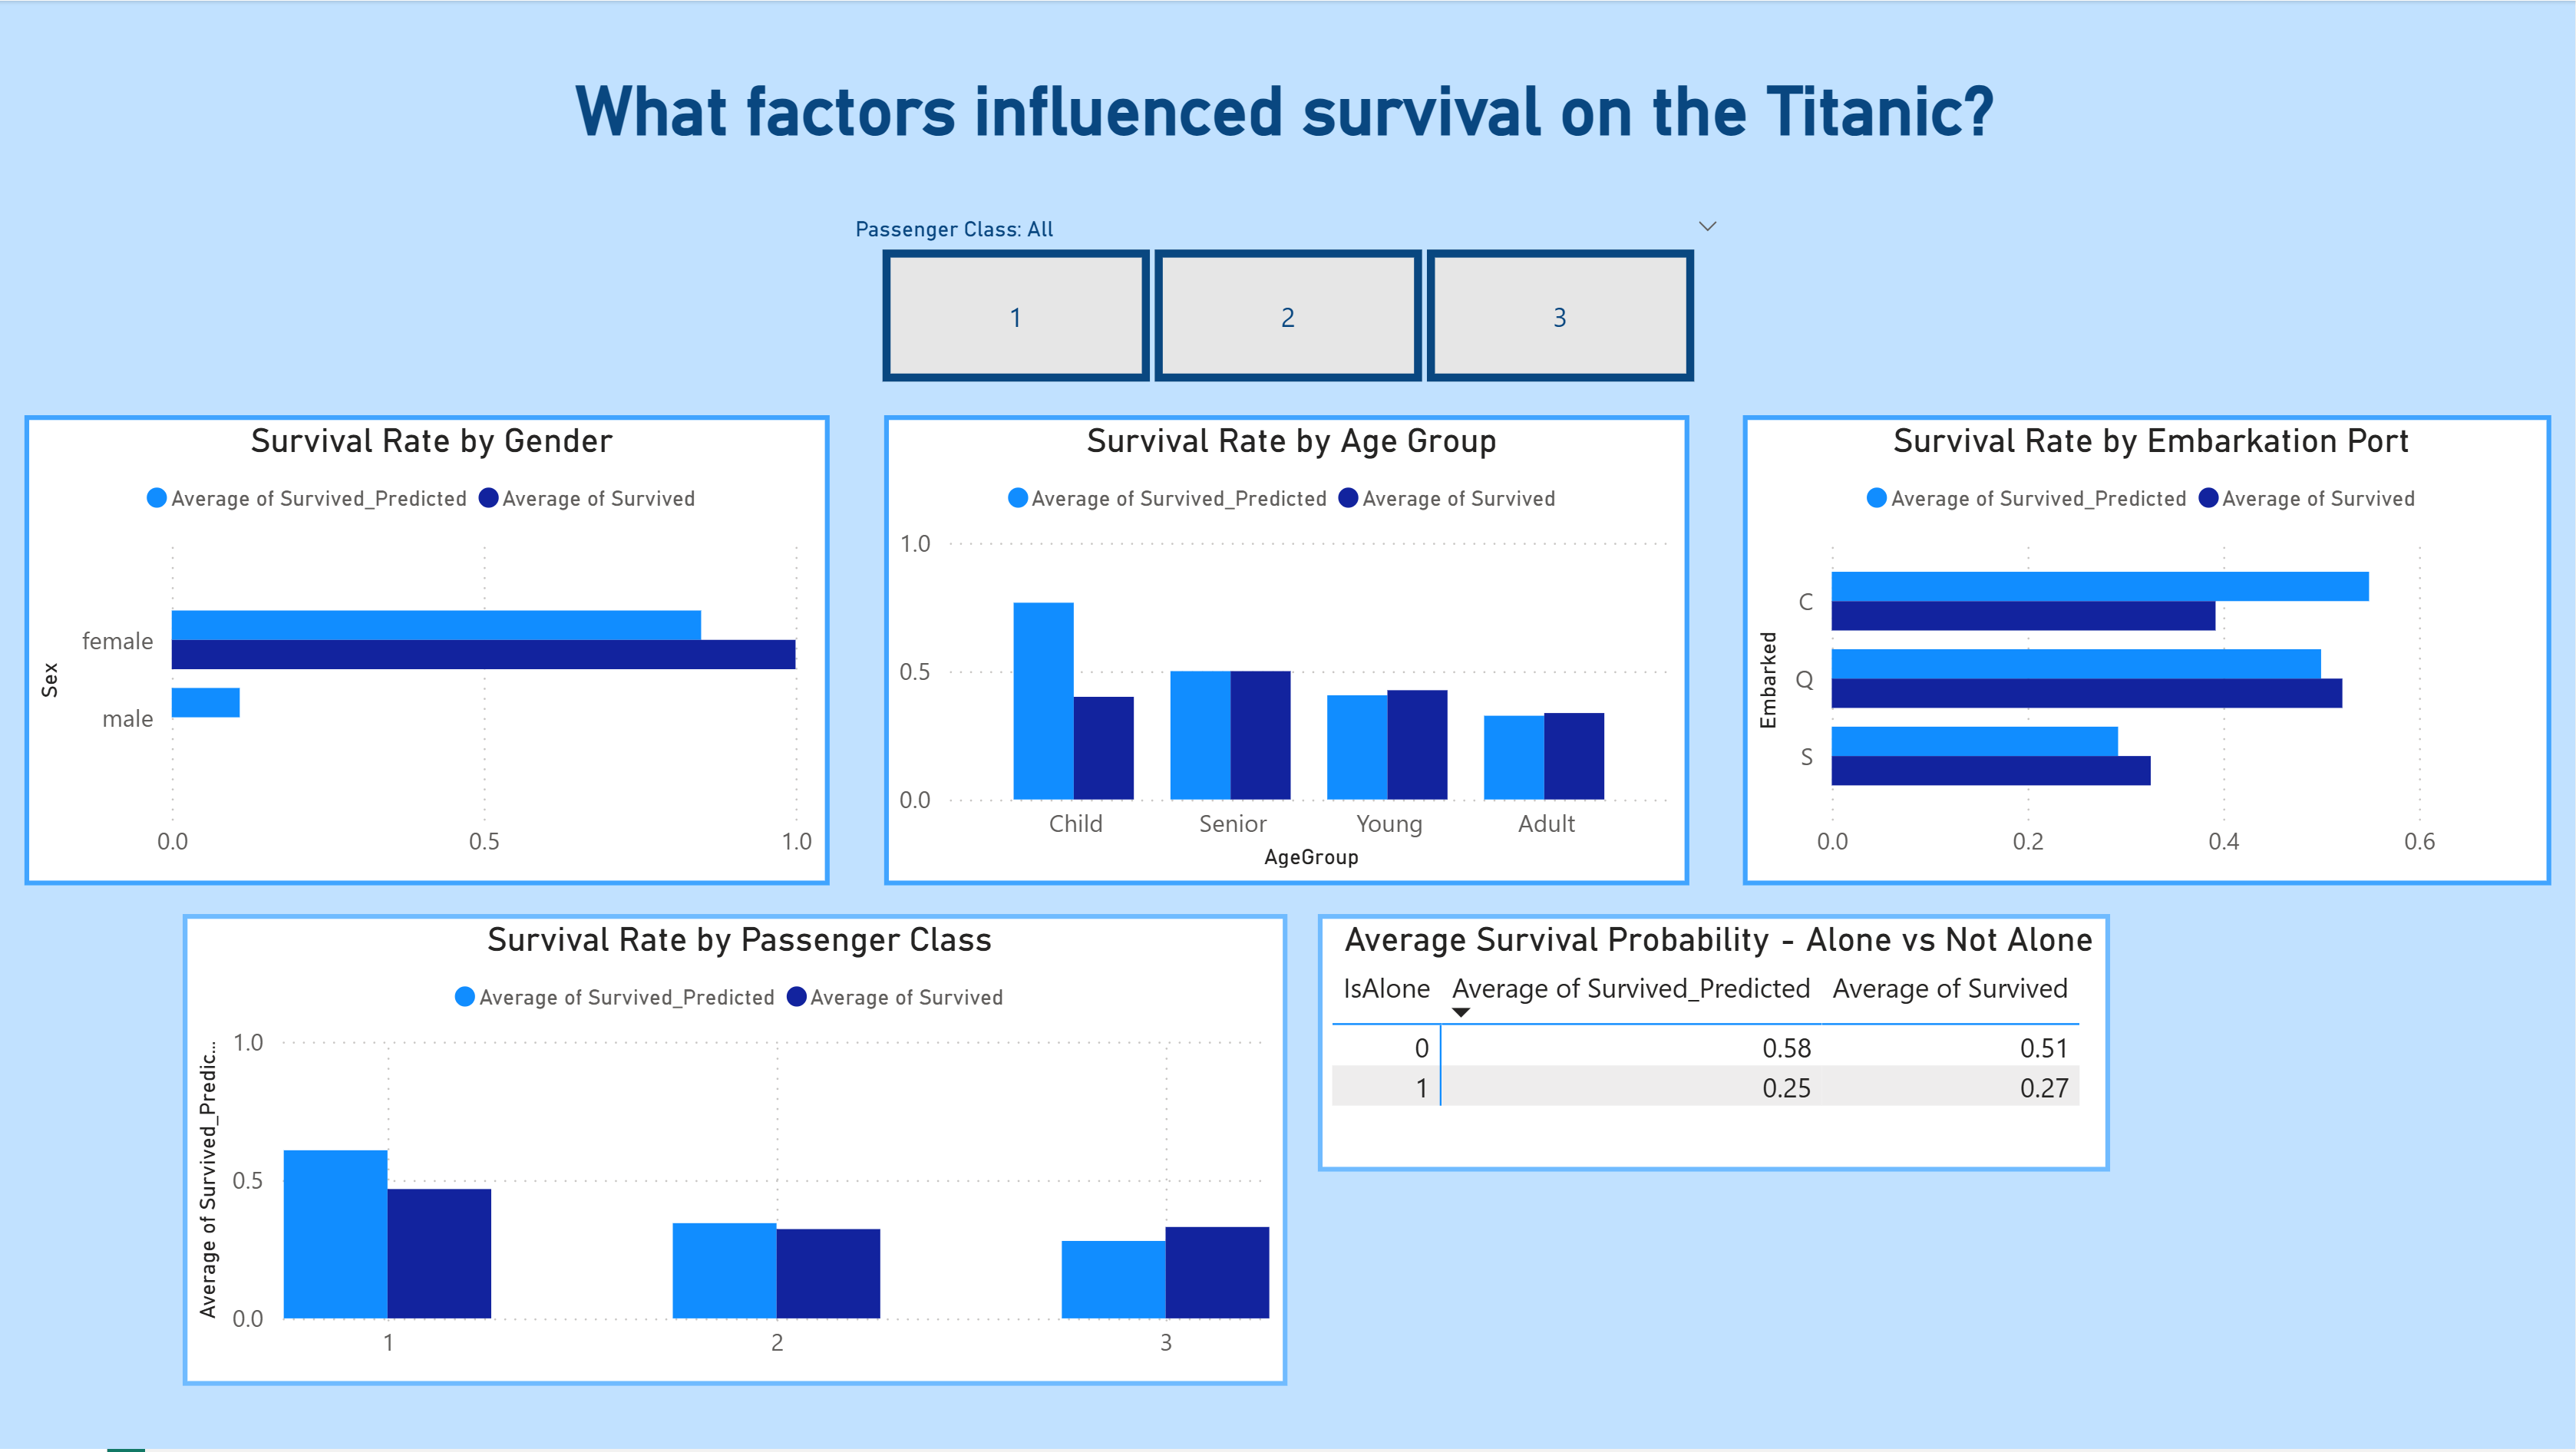

The dashboard page shown, as its layout file describes it:
{"tool":"powerbi","page":{"name":"Factors Survival","canvas":[1280,720],"ordinal":0},"visuals":[{"type":"textbox","box":[11.4,30.5,1256.2,47.7],"z":0},{"type":"clusteredBarChart","title":"Survival Rate by Gender ","fields":{"Category":["titanic_test_processed.Sex"],"Y":["Avg(submission.Survived_Predicted)","Avg(gender_submission.Survived)"]},"box":[12.9,205.9,399.8,233.5],"z":1000},{"type":"clusteredColumnChart","title":"Survival Rate by Passenger Class","fields":{"Category":["titanic_test_processed.Pclass"],"Y":["Avg(submission.Survived_Predicted)","Avg(gender_submission.Survived)"]},"box":[91.5,453.7,548.5,234.5],"z":2000},{"type":"slicer","title":"Passenger Class","fields":{"Values":["titanic_test_processed.Pclass"]},"box":[412.7,102,453.7,94.4],"z":3000},{"type":"clusteredColumnChart","title":"Survival Rate by Age Group","fields":{"Y":["Avg(submission.Survived_Predicted)","Avg(gender_submission.Survived)"],"Category":["titanic_test_processed.AgeGroup"]},"box":[439.9,205.9,400.3,233.5],"z":4000},{"type":"pivotTable","title":"Average Survival Probability - Alone vs Not Alone","fields":{"Rows":["titanic_test_processed.IsAlone"],"Values":["Avg(submission.Survived_Predicted)","Avg(gender_submission.Survived)"]},"box":[655.2,453.7,393.7,128.3],"z":5000},{"type":"clusteredBarChart","title":"Survival Rate by Embarkation Port","fields":{"Category":["titanic_test_processed.Embarked"],"Y":["Avg(submission.Survived_Predicted)","Avg(gender_submission.Survived)"]},"box":[866.4,205.9,401.3,233.5],"z":6000}]}

Visuals, with their boxes in screenshot pixels (x1, y1, x2, y2), scaled from the page's 1280x720 canvas onto the 2576x1452 screenshot:
textbox: <region>23, 61, 2551, 157</region>
"Survival Rate by Gender " clusteredBarChart: <region>26, 415, 831, 886</region>
"Survival Rate by Passenger Class" clusteredColumnChart: <region>184, 915, 1288, 1388</region>
"Passenger Class" slicer: <region>831, 206, 1744, 396</region>
"Survival Rate by Age Group" clusteredColumnChart: <region>885, 415, 1691, 886</region>
"Average Survival Probability - Alone vs Not Alone" pivotTable: <region>1319, 915, 2111, 1173</region>
"Survival Rate by Embarkation Port" clusteredBarChart: <region>1744, 415, 2551, 886</region>
